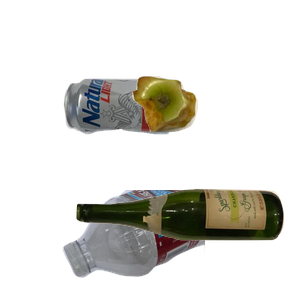glass: (74, 186, 300, 300)
metal: (61, 75, 231, 202)
plastic: (60, 190, 300, 280)
trash: (130, 74, 300, 199)
